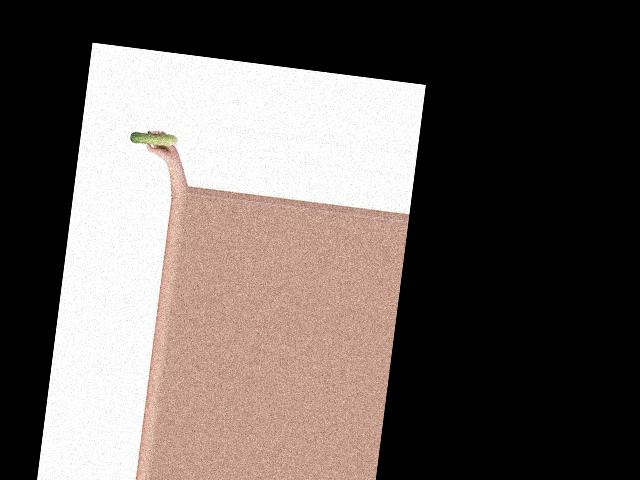cucumber: (129, 130, 178, 149)
